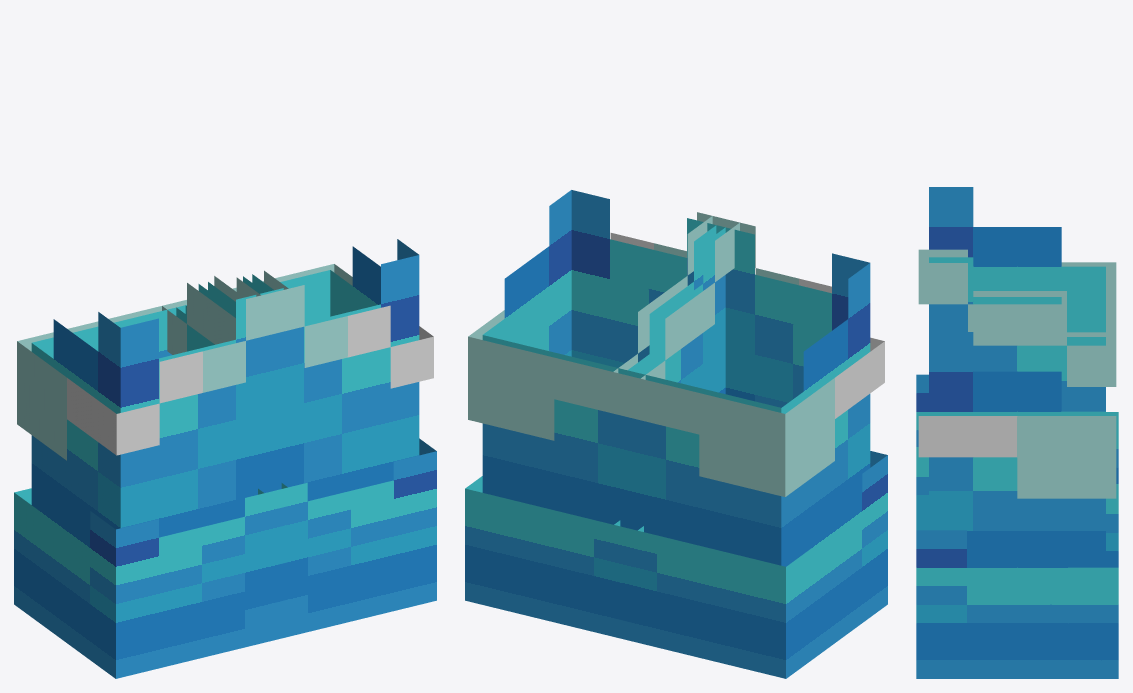
File: sl_water_shoes.glb
3 views of the same model, side by side, from view 1: azimuth 30°, elevation 25°; view 2: azimuth 150°, elevation 25°; view 3: azimuth 270°, elevation 25° (orthographic).
Parts seen in each view (by area): view 1: bb_water_shoes; view 2: bb_water_shoes; view 3: bb_water_shoes.
Part boxes in pixels (bbox=[...]): bb_water_shoes: bbox=[14, 239, 436, 678]; bb_water_shoes: bbox=[465, 190, 887, 678]; bb_water_shoes: bbox=[916, 187, 1118, 678].
Size of the model in its own units: 0.5263 by 0.8044 by 0.2887.
1 material, 1 textured.
